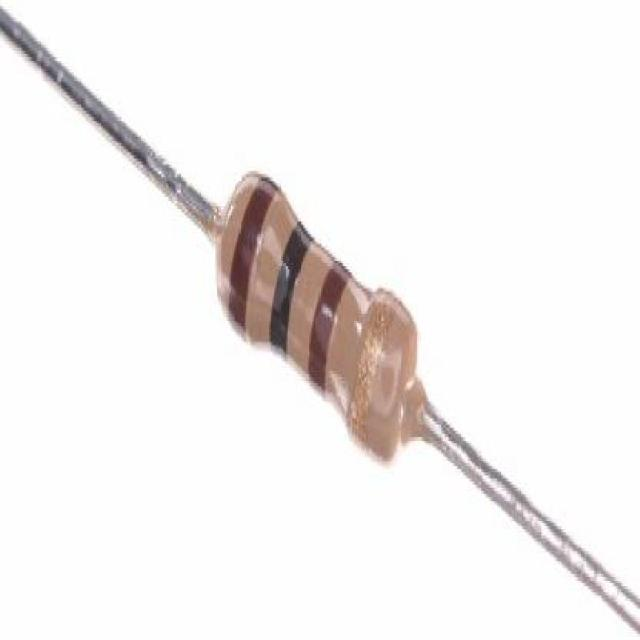Capacitor: (212, 172, 640, 634)
